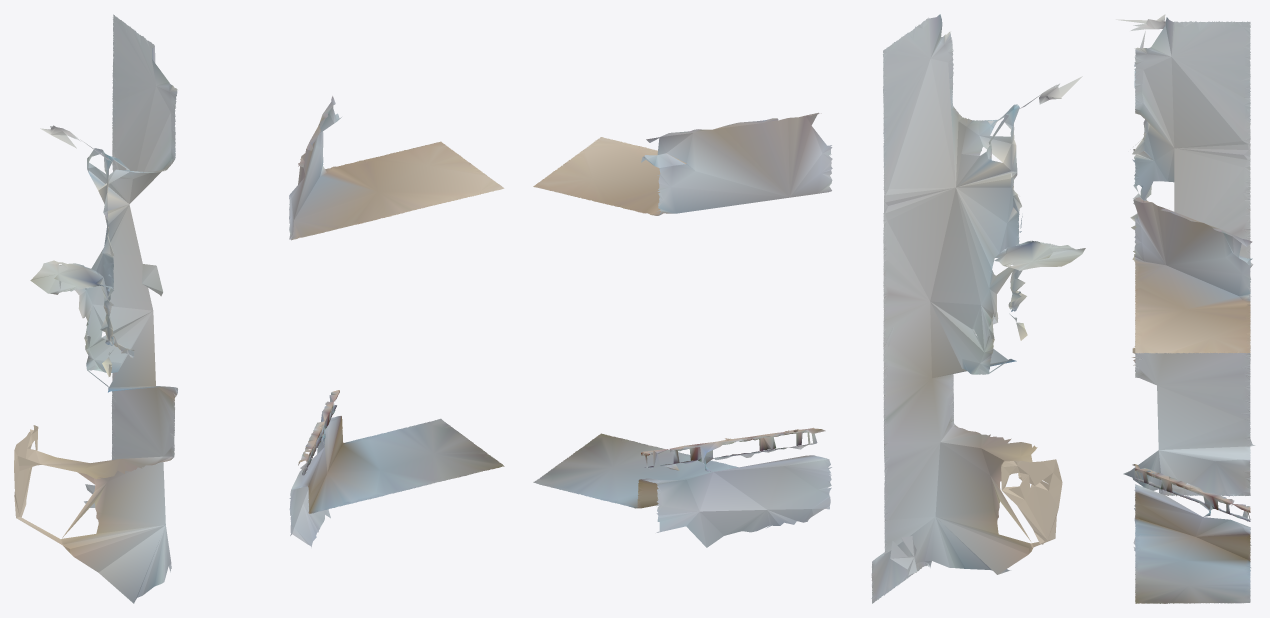
3 views of the same model, side by side, from view 1: azimuth 30°, elevation 25°; view 2: azimuth 150°, elevation 25°; view 3: azimuth 270°, elevation 25° (orthographic). The views are drawn at different scales.
Size of the model in its own units: 8.36 by 9.23 by 2.47.
